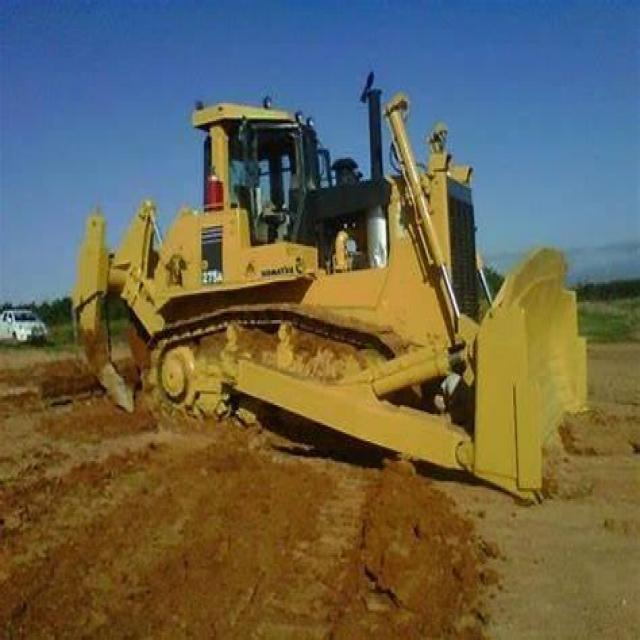Bulldozer: (70, 96, 621, 573)
